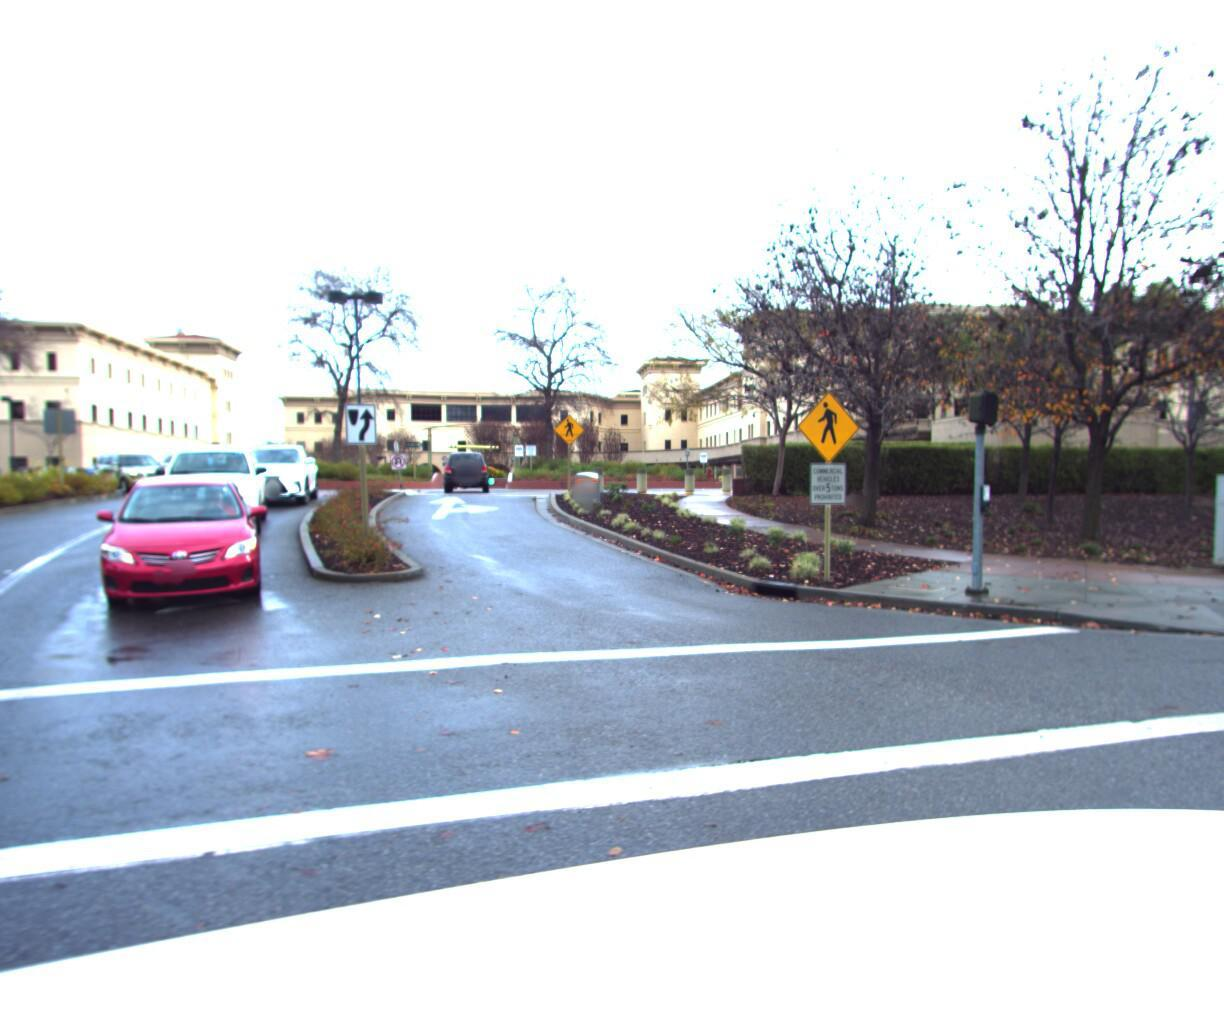car: (66, 469, 271, 616), (139, 440, 272, 541), (220, 446, 331, 508), (99, 451, 196, 496), (444, 450, 496, 490)
